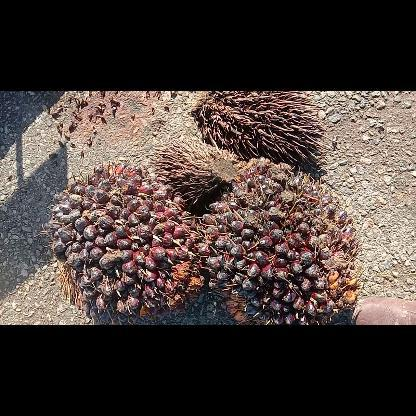Janjang kosong: (192, 90, 336, 162), (150, 133, 236, 203)
TBS mentah: (197, 156, 360, 324), (40, 158, 204, 324)
